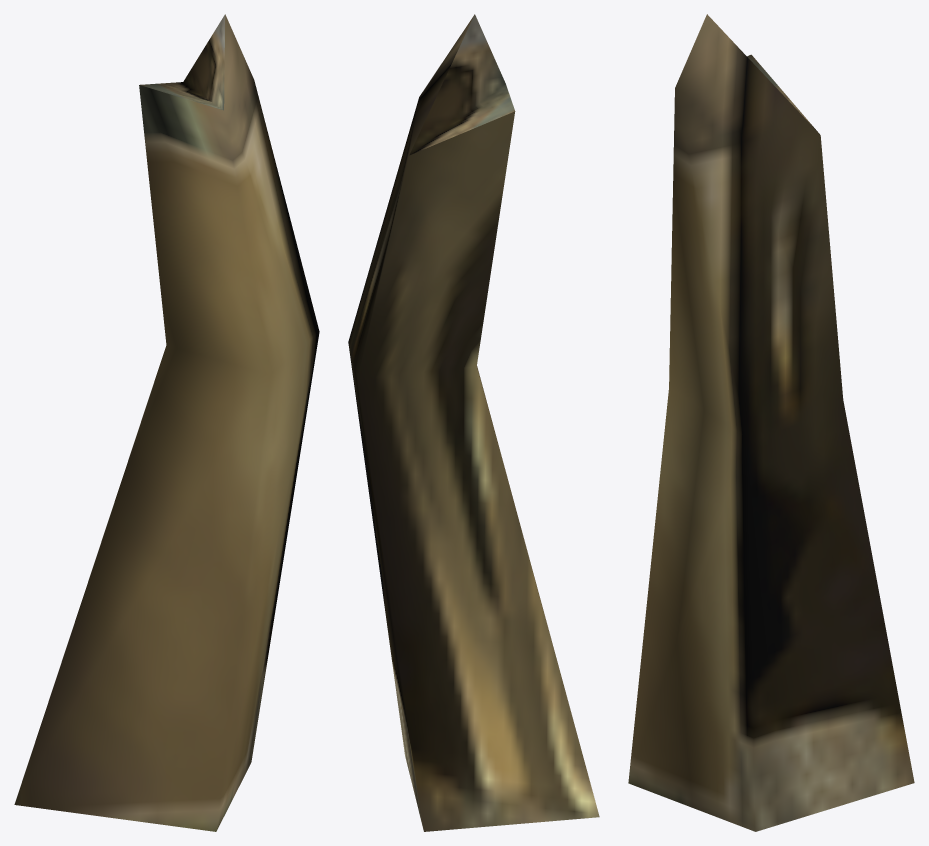
Rendered from GY_longgu005.fbx.
3 views of the same model, side by side, from view 1: azimuth 30°, elevation 25°; view 2: azimuth 150°, elevation 25°; view 3: azimuth 270°, elevation 25° (orthographic). The views are drawn at different scales.
Visible parts, largest first — view 1: GY_longgu005; view 2: GY_longgu005; view 3: GY_longgu005.
Boxes of the visible parts, x1,y1,x2,y2 form: GY_longgu005: [14, 14, 319, 831]; GY_longgu005: [348, 14, 599, 831]; GY_longgu005: [628, 14, 914, 831].
Size of the model in its own units: 88.51 by 231 by 75.43.
